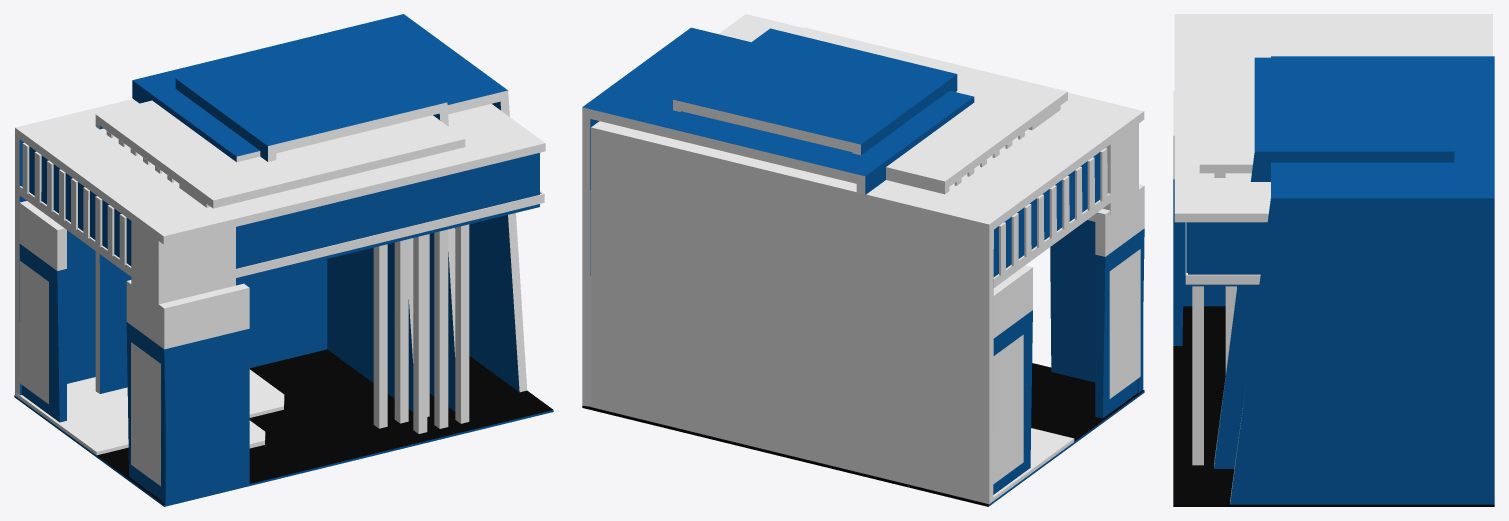
The model's file is Booth_Model_03.fbx.
The picture shows the model from 3 angles, left to right: view 1: azimuth 30°, elevation 25°; view 2: azimuth 150°, elevation 25°; view 3: azimuth 270°, elevation 25°; orthographic projection. The views are drawn at different scales.
Visible parts, largest first — view 1: PlatinumBooth03, GoldBooth03, SilverBooth03; view 2: PlatinumBooth03, GoldBooth03; view 3: PlatinumBooth03, GoldBooth03.
Boxes of the visible parts, box(x1,y1,x2,y2) form: PlatinumBooth03: box(14, 14, 553, 506); GoldBooth03: box(95, 34, 465, 465); SilverBooth03: box(236, 238, 413, 455); PlatinumBooth03: box(582, 14, 1144, 506); GoldBooth03: box(673, 27, 1067, 194); PlatinumBooth03: box(1173, 14, 1494, 506); GoldBooth03: box(1199, 33, 1454, 468).
Bounding box in the file's own units: 6.03 × 4.39 × 4.
